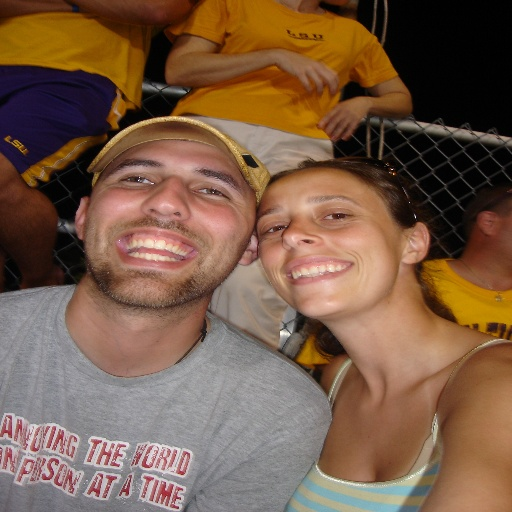hand: (274, 49, 338, 96), (328, 83, 387, 129)
